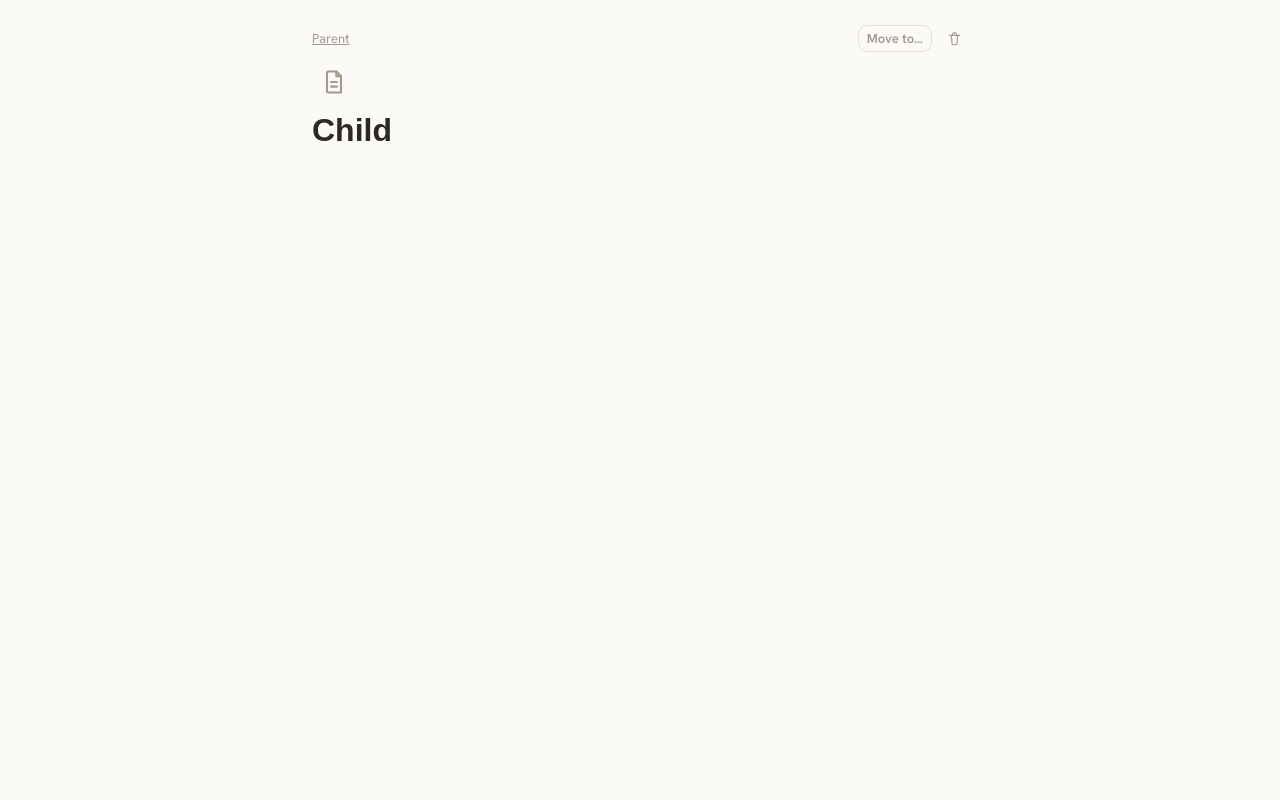
Test: PageEditor › opens the delete confirmation dialog
Check: the 1st field showing "Child" is shown, box left=312, top=104, right=968, bottom=157
Click the button named "Delete page" at (954, 38), box left=940, top=24, right=968, bottom=52
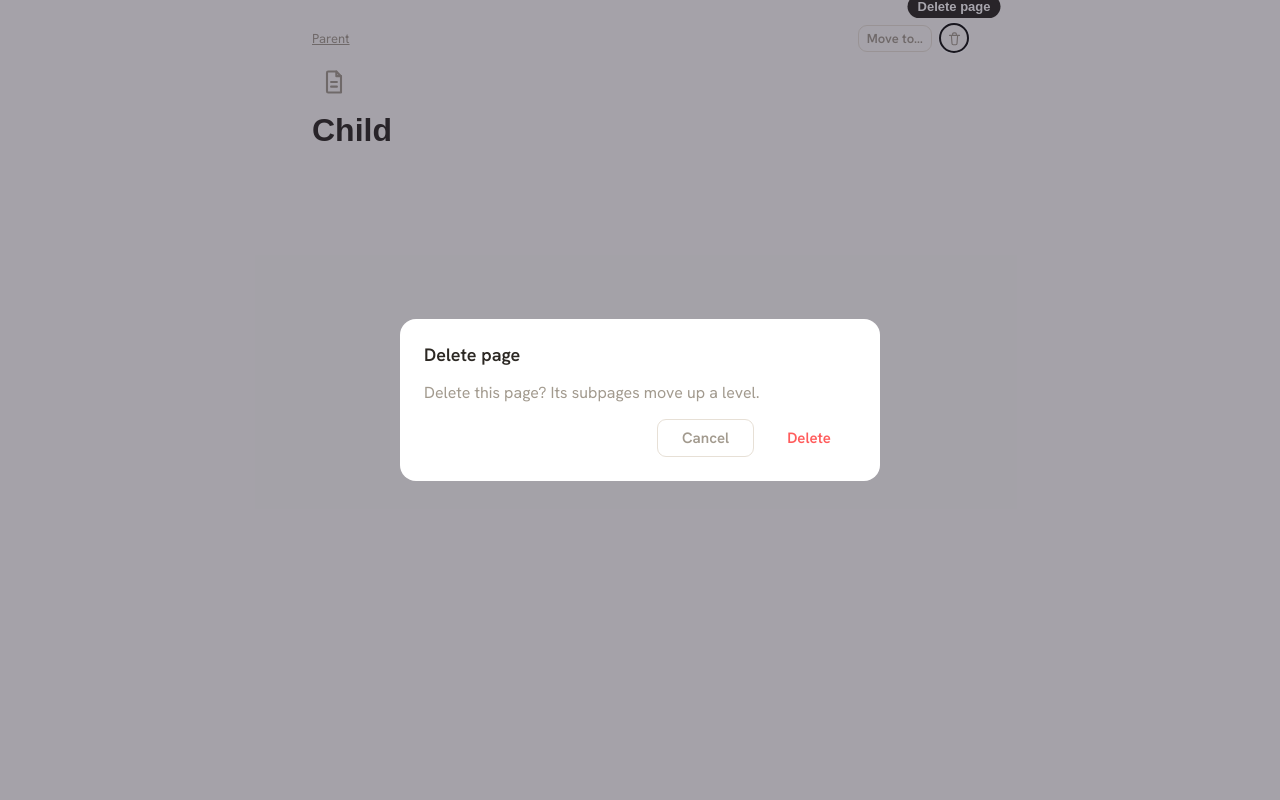
Check: the dialog is shown, box left=400, top=319, right=880, bottom=481
Check: the text "Delete this page? Its subpages move up a level." is shown, box left=424, top=382, right=760, bottom=403
